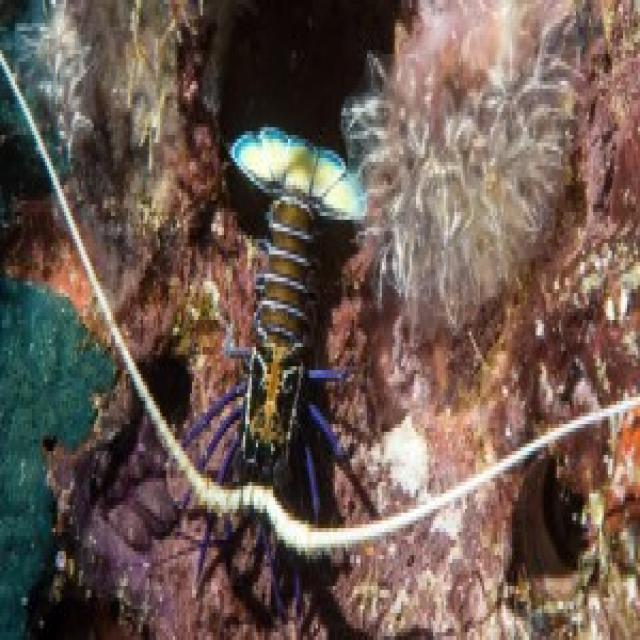lobsters: (21, 0, 631, 640)
